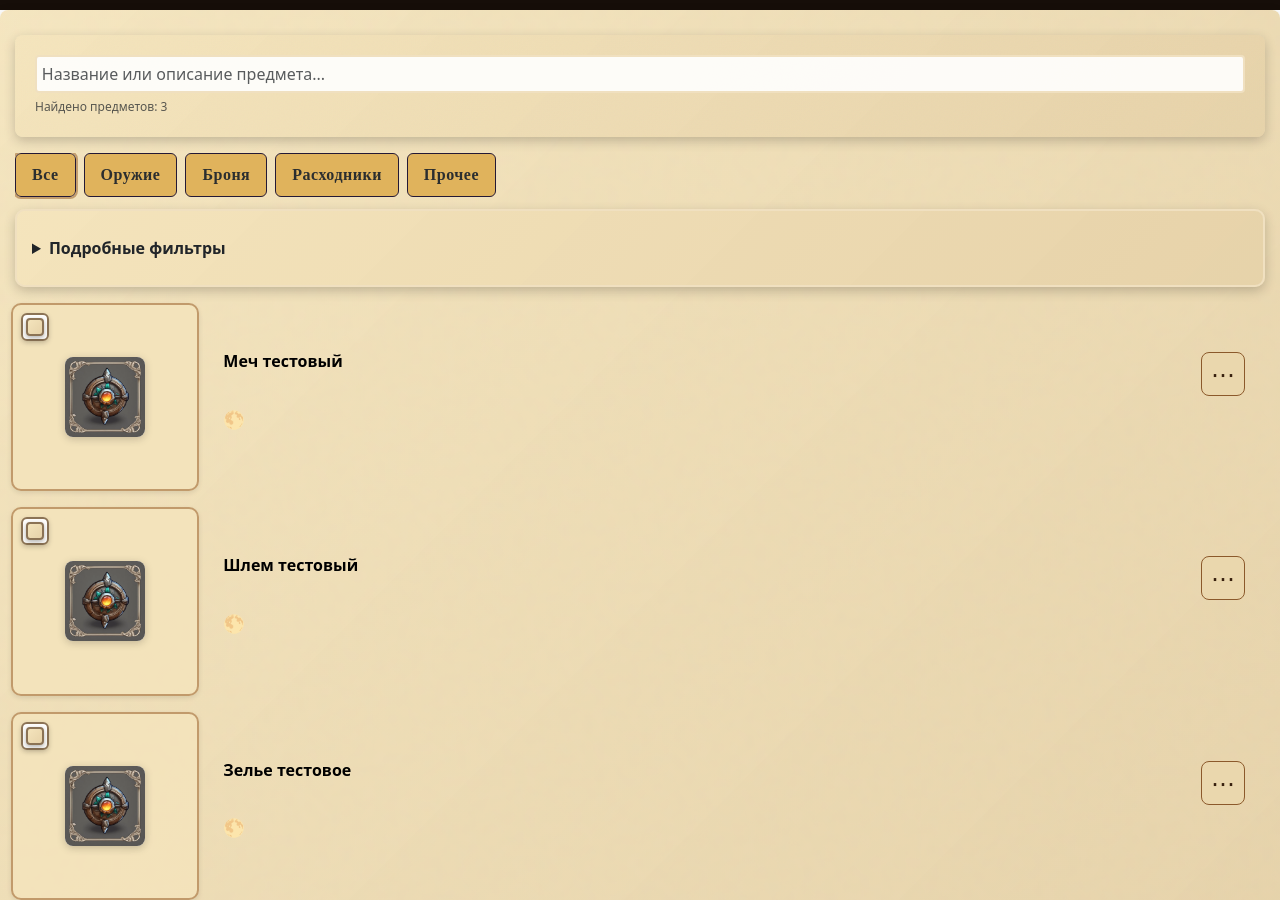
Test case: quick categories filter items without opening the advanced form
Click the button "Броня". click: (226, 175)
box: [185,153,267,197]
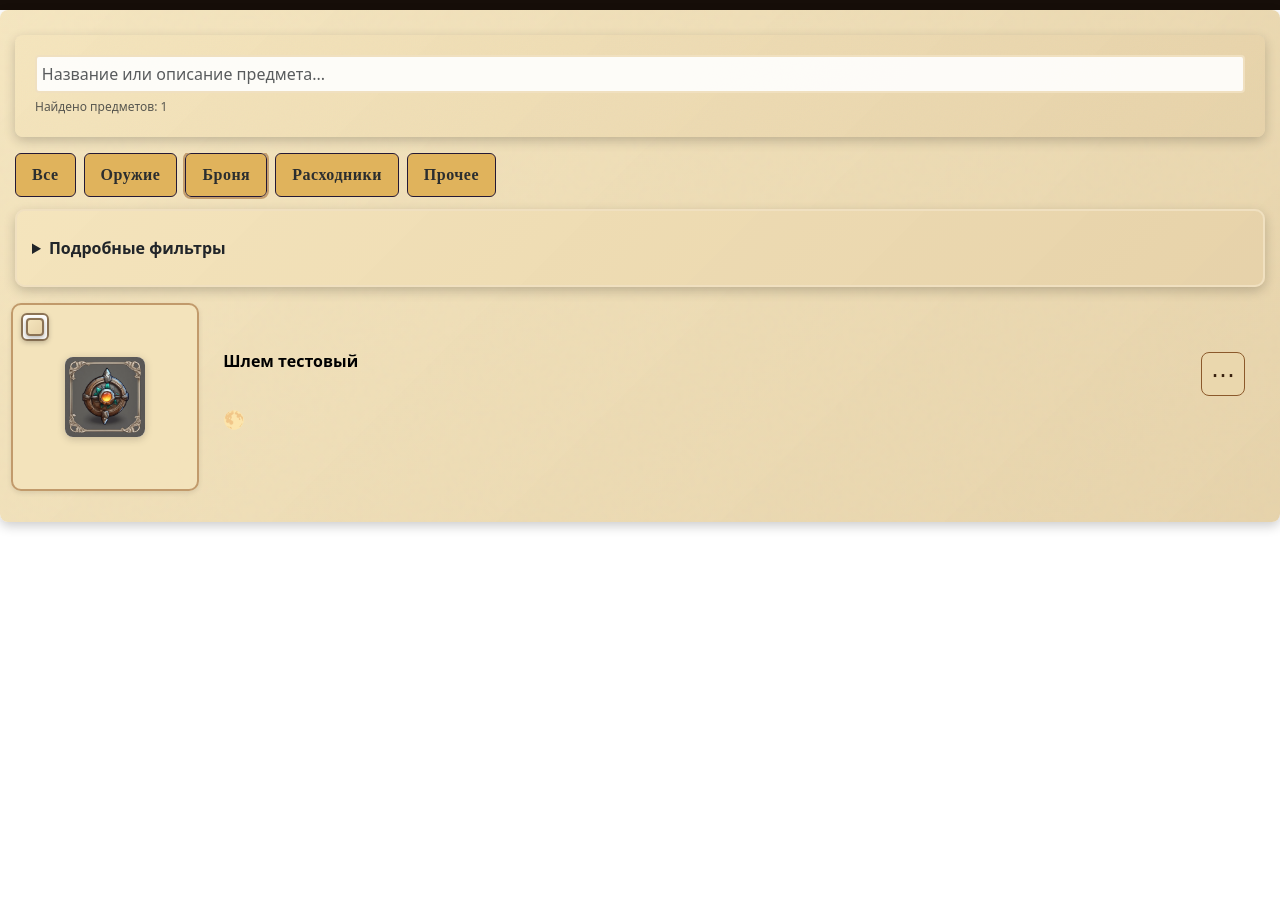
Check: the text "Шлем тестовый" is shown, box [223,352,358,371]
Check: the text "Меч тестовый" is gone
Click the button "Прочее". click: (451, 175)
box: [407,153,496,197]
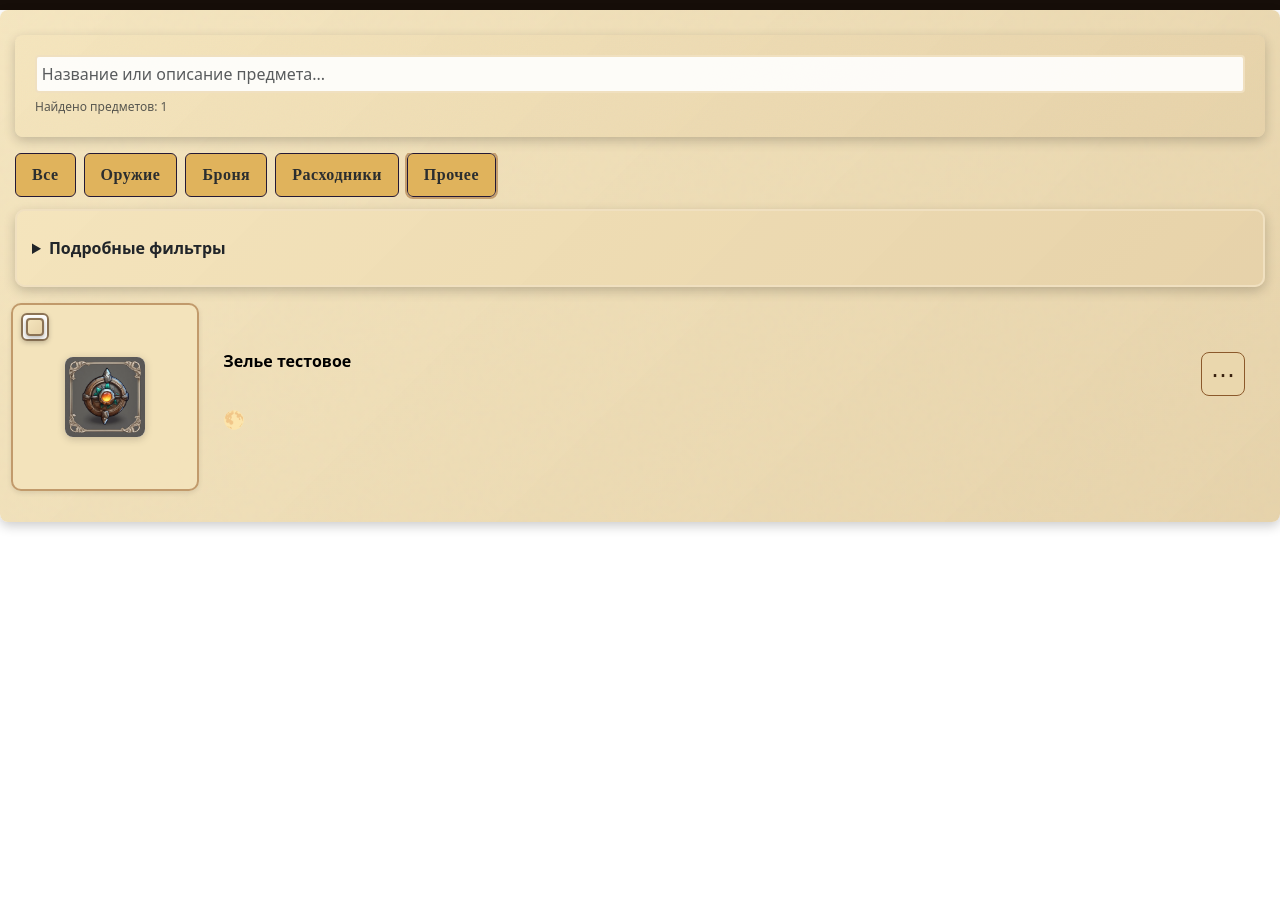
Check: the text "Зелье тестовое" is shown, box [223,352,351,371]
Check: the text "Шлем тестовый" is gone
